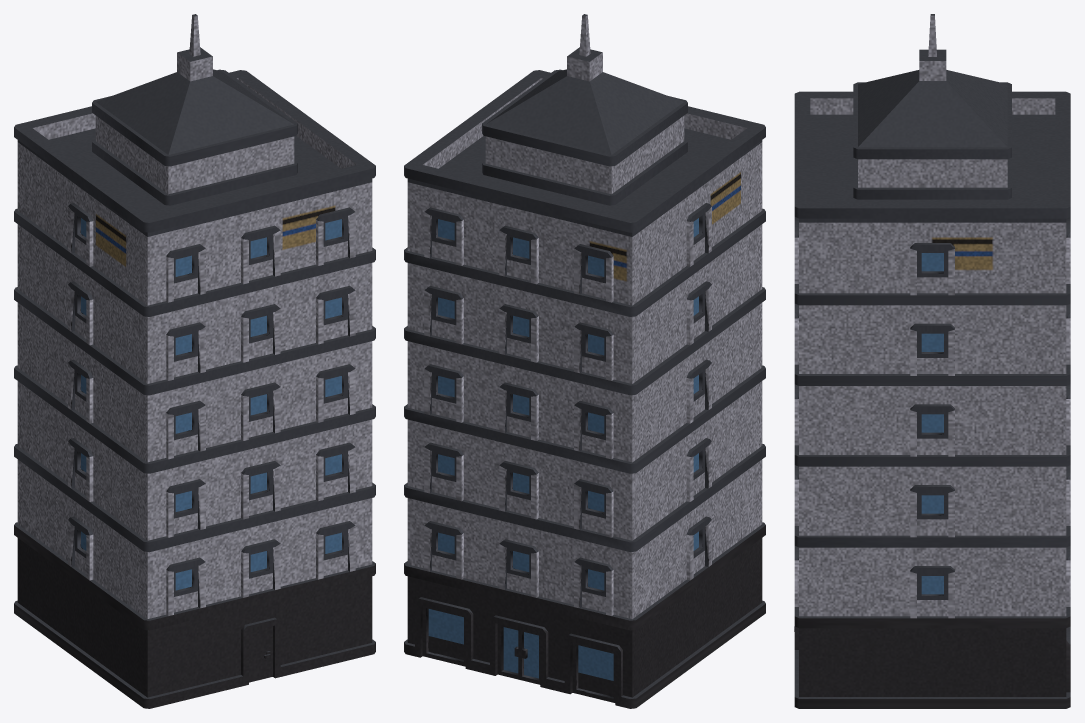
The model's file is building-m-white-scuffed.glb.
3 views of the same model, side by side, from view 1: azimuth 30°, elevation 25°; view 2: azimuth 150°, elevation 25°; view 3: azimuth 270°, elevation 25° (orthographic). The views are drawn at different scales.
Visible parts, largest first — view 1: building-m-white-scuffed; view 2: building-m-white-scuffed; view 3: building-m-white-scuffed.
Boxes of the visible parts, box(x1,y1,x2,y2) form: building-m-white-scuffed: box(14, 14, 375, 708); building-m-white-scuffed: box(404, 14, 765, 708); building-m-white-scuffed: box(794, 14, 1070, 708).
Bounding box in the file's own units: 1.24 × 3.15 × 1.24.
Materials: 1 (1 with a texture image).
